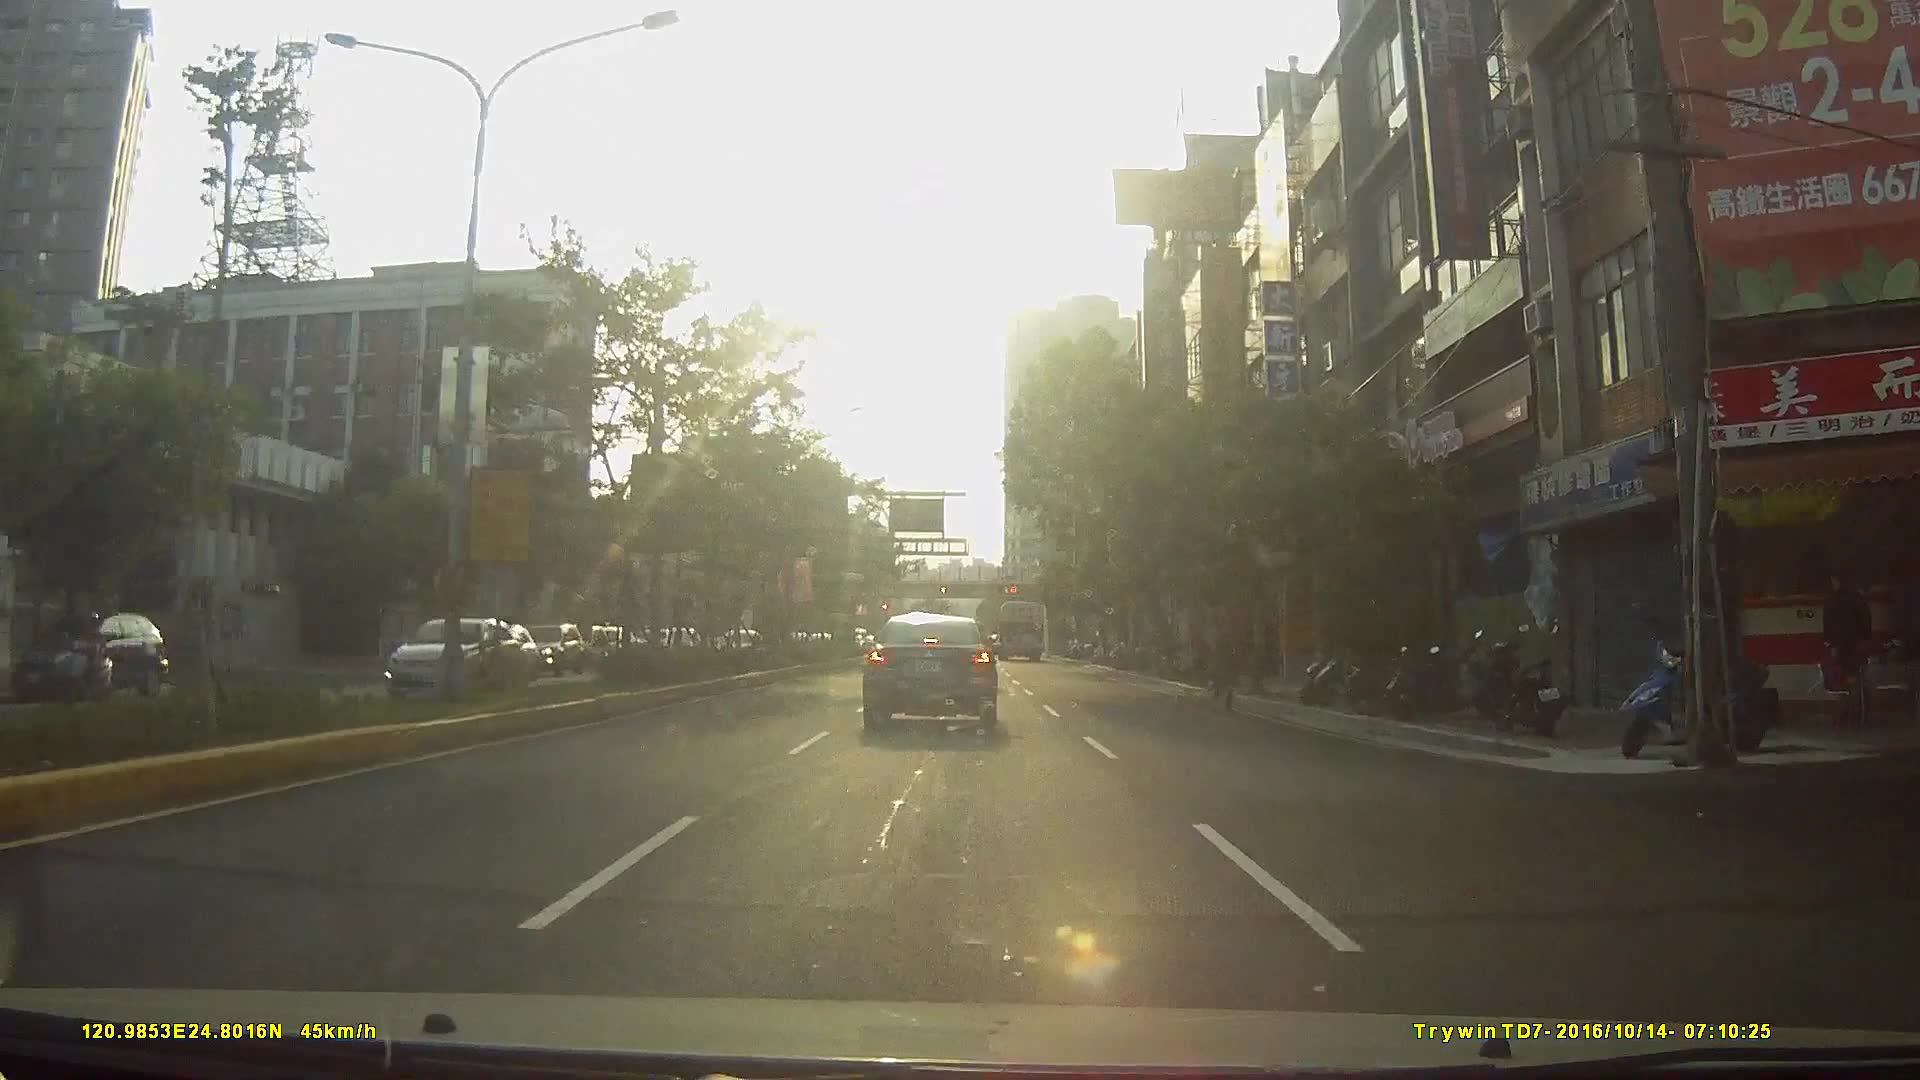pedestrian: (1204, 609, 1246, 716)
rider: (62, 611, 124, 712)
vehicle: (860, 613, 1000, 733), (1, 610, 184, 701), (379, 606, 522, 707), (515, 627, 591, 683), (992, 599, 1043, 664), (466, 623, 529, 675)
